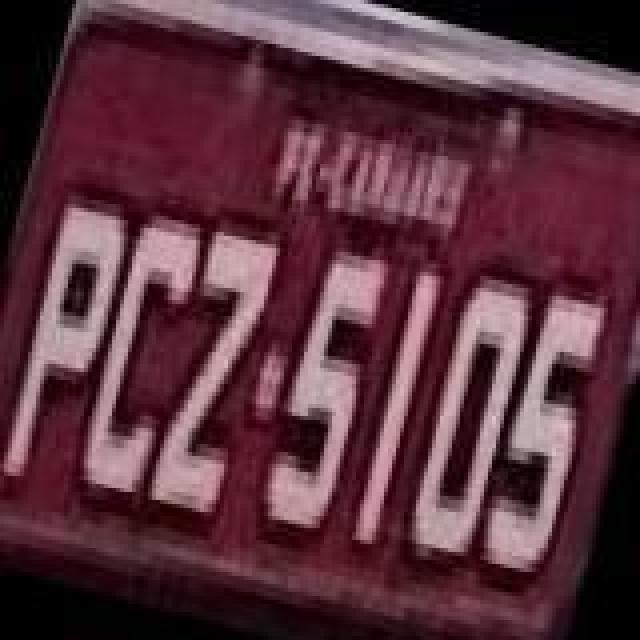1: (340, 266, 444, 550)
5: (470, 278, 618, 586), (252, 242, 396, 542)
C: (68, 206, 212, 506)
O: (392, 276, 536, 572)
P: (0, 194, 136, 494)
Z: (140, 216, 292, 520)
